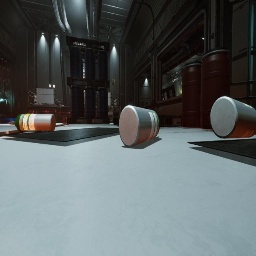0: (210, 96, 256, 139), (119, 105, 160, 148), (9, 114, 56, 132), (255, 133, 256, 134)
EmergencyPhone ,: (17, 102, 20, 108), (69, 88, 70, 94), (19, 104, 19, 105)
FirstAidBox ,: (62, 116, 67, 124), (27, 111, 34, 114), (92, 119, 94, 123)
NitrogenTank ,: (57, 104, 64, 106)
